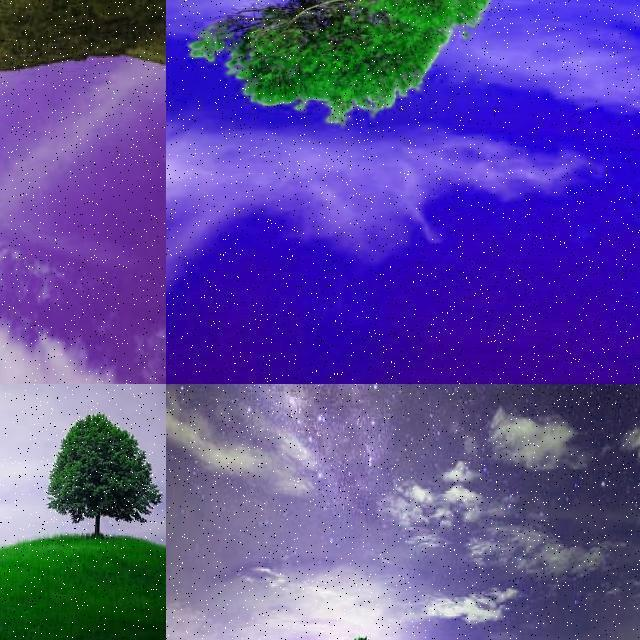tree: (203, 0, 483, 130), (0, 0, 106, 232), (40, 410, 160, 542), (1, 384, 44, 432), (0, 534, 28, 606)
